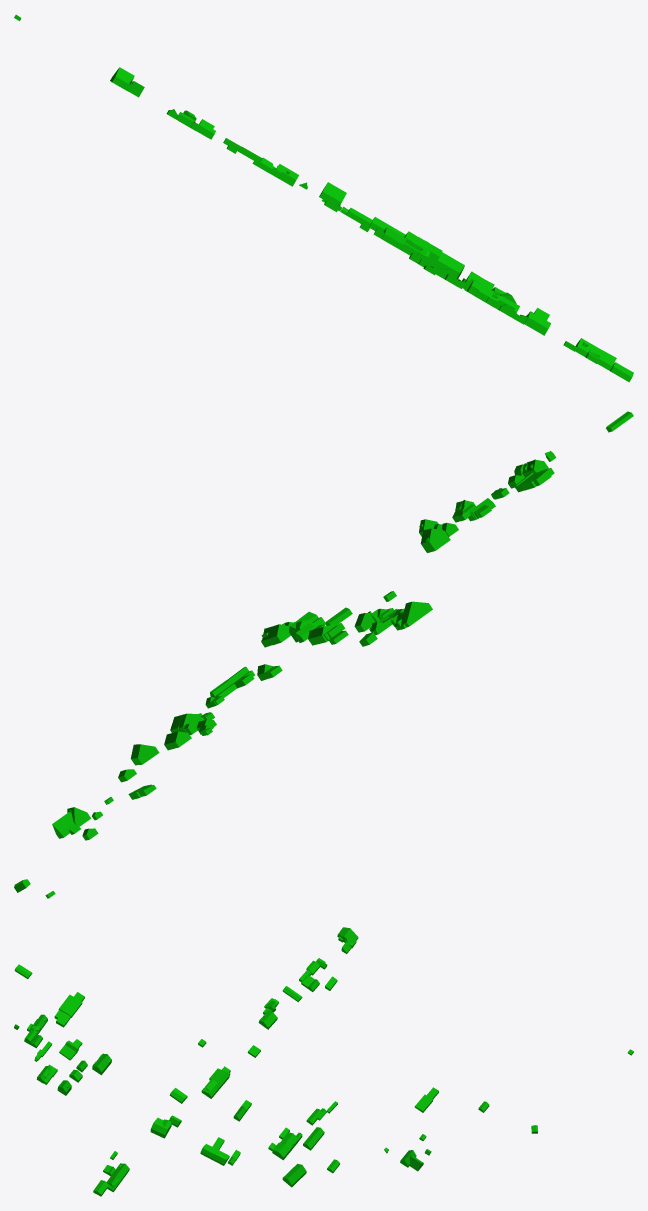
The picture shows the model from 3 angles, top to bottom: view 1: azimuth 30°, elevation 25°; view 2: azimuth 150°, elevation 25°; view 3: azimuth 270°, elevation 25°; orthographic projection. The views are drawn at different scales.
Parts seen in each view (by area): view 1: mesh; view 2: mesh; view 3: mesh.
Part boxes in pixels (x1,y1,x2,y2): mesh: [14, 14, 633, 382]; mesh: [14, 411, 633, 898]; mesh: [14, 927, 633, 1196].
Size of the model in its own units: 191 by 138 by 466.
